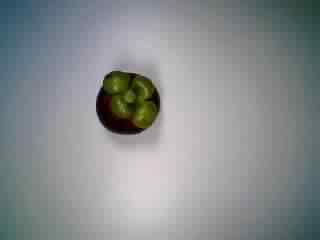mangosteen: (90, 67, 165, 137)
